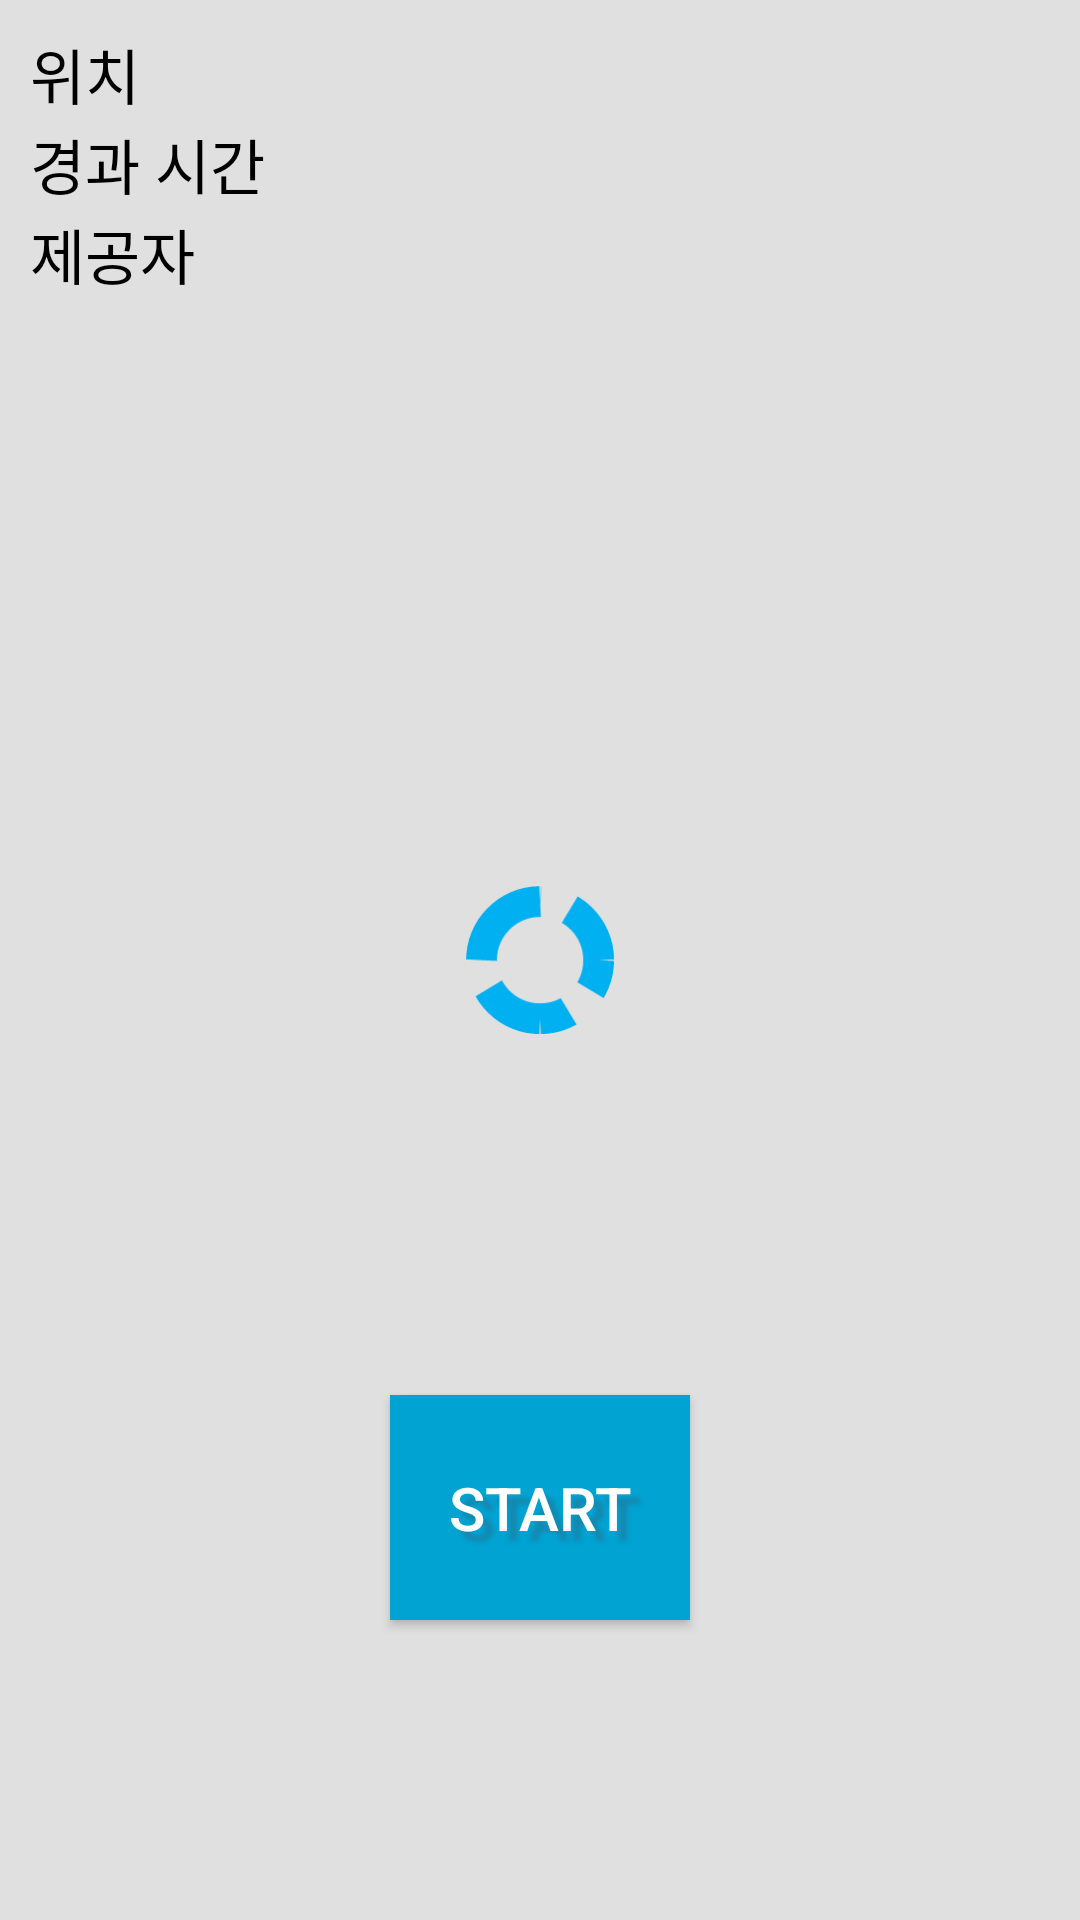

Icons on this 1080px x 1920px Android screen, each with its box as (left=x1, top=y1, right=x2, bottom=y2):
cyancircle: (left=466, top=886, right=614, bottom=1034)
